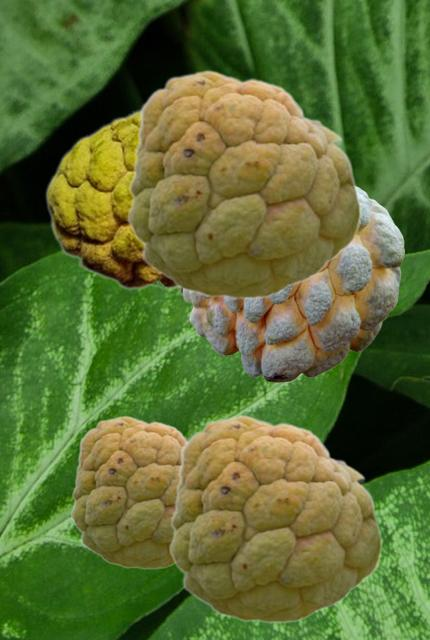atis: (126, 69, 360, 298), (168, 414, 381, 622), (182, 186, 403, 381), (44, 106, 178, 289), (70, 415, 186, 568)
